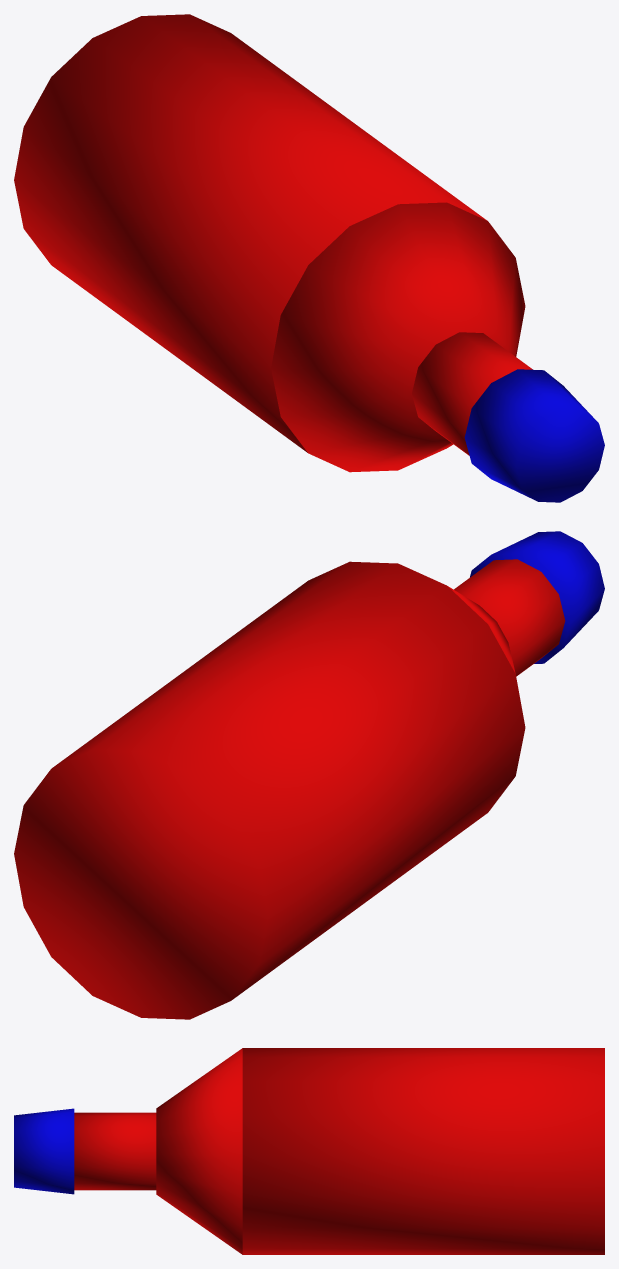
File: fish_bottle.glb
The picture shows the model from 3 angles, top to bottom: view 1: azimuth 30°, elevation 25°; view 2: azimuth 150°, elevation 25°; view 3: azimuth 270°, elevation 25°; orthographic projection. The views are drawn at different scales.
Visible parts, largest first — view 1: Body; view 2: Body; view 3: Body.
Part boxes in pixels (<box>): Body: <box>14,14,604,502</box>; Body: <box>14,531,604,1019</box>; Body: <box>14,1048,604,1254</box>.
Bounding box in the file's own units: 0.24 × 0.24 × 0.685.
